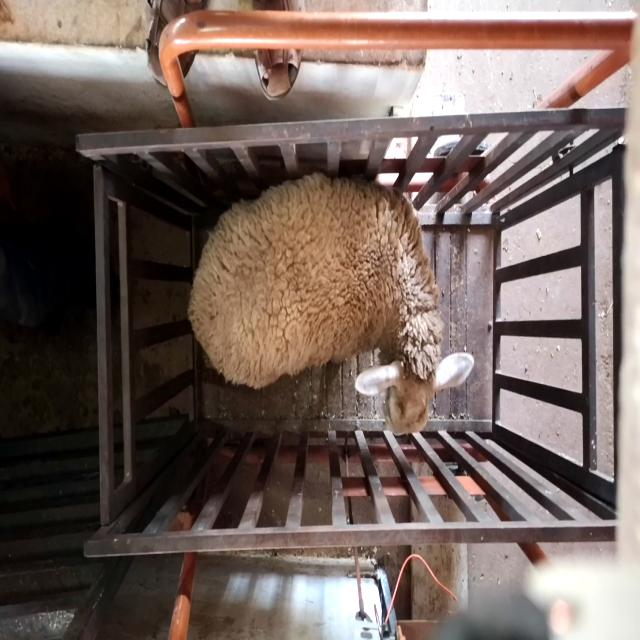sheep: (187, 170, 475, 436)
